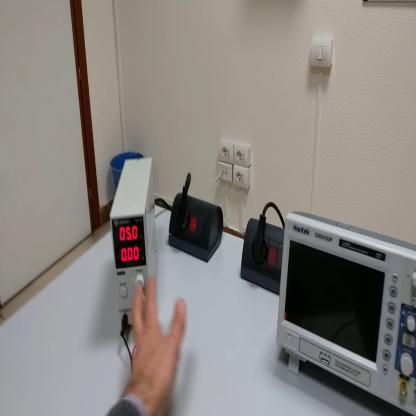hand: (128, 273, 187, 406)
oscilloscope: (274, 208, 416, 413)
power supply: (108, 155, 157, 326)
socket: (166, 195, 226, 264), (239, 217, 285, 296)
